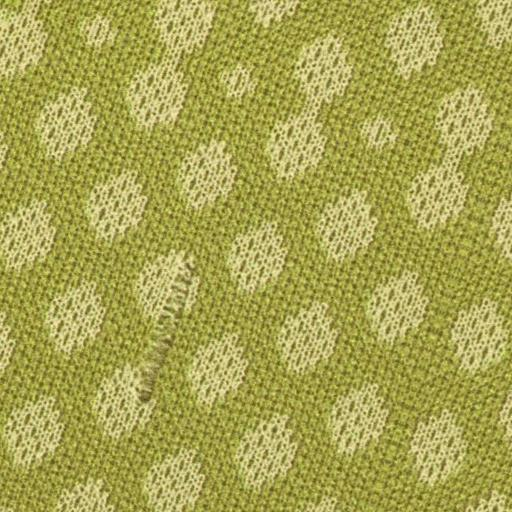slub: (123, 254, 217, 421)
